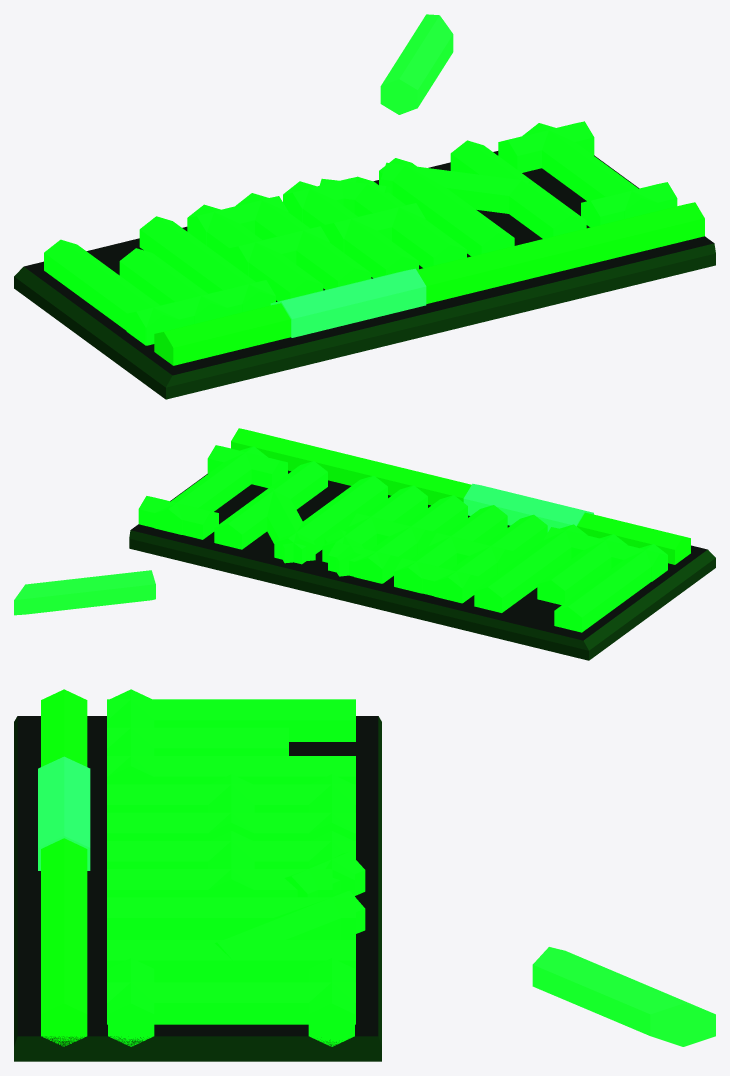
The model's file is newshk-121.glb.
3 views of the same model, one above another, from view 1: azimuth 30°, elevation 25°; view 2: azimuth 150°, elevation 25°; view 3: azimuth 270°, elevation 25° (orthographic). The views are drawn at different scales.
Parts seen in each view (by area): view 1: newshk-121; view 2: newshk-121; view 3: newshk-121.
Boxes of the visible parts, x1=… form: newshk-121: x1=14, y1=14, x2=715, y2=399; newshk-121: x1=14, y1=428, x2=715, y2=660; newshk-121: x1=14, y1=689, x2=715, y2=1061.
Size of the model in its own units: 1.92 by 0.166 by 1.75.
